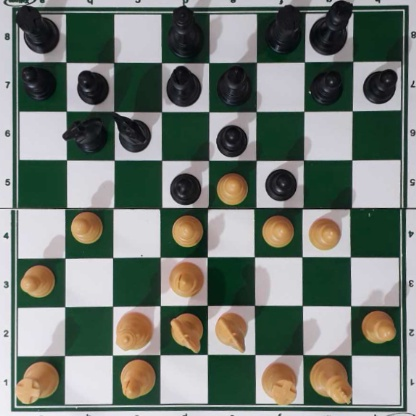black-bishop: (216, 66, 254, 108), (167, 65, 202, 106)
black-king: (310, 1, 351, 58)
black-knight: (62, 116, 106, 151), (111, 112, 151, 150)
black-pawn: (362, 67, 397, 105), (21, 64, 57, 99), (215, 120, 249, 156), (312, 67, 344, 104), (170, 169, 202, 204), (265, 166, 297, 201), (76, 67, 106, 104)
black-queen: (166, 5, 205, 57)
black-rook: (13, 3, 62, 55), (264, 4, 303, 54)
white-bishop: (119, 358, 154, 399), (170, 260, 204, 297)
white-king: (309, 357, 353, 405)
white-knight: (215, 311, 249, 352), (169, 313, 204, 351)
white-pawn: (308, 213, 342, 251), (19, 263, 56, 297), (360, 310, 396, 344), (215, 170, 249, 203), (70, 210, 103, 243), (262, 213, 294, 247), (171, 213, 202, 247)
white-queen: (116, 308, 152, 353)
white-rook: (14, 360, 59, 403), (261, 361, 299, 404)
